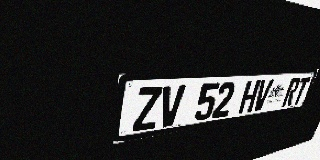2: (212, 82, 237, 118)
5: (194, 83, 220, 122)
H: (238, 80, 261, 114)
R: (281, 78, 302, 107)
T: (291, 77, 311, 105)
V: (157, 85, 186, 128), (251, 79, 274, 112)
Z: (133, 86, 163, 132)
